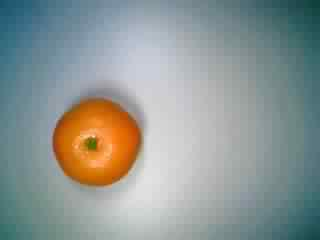orange: (48, 94, 143, 188)
